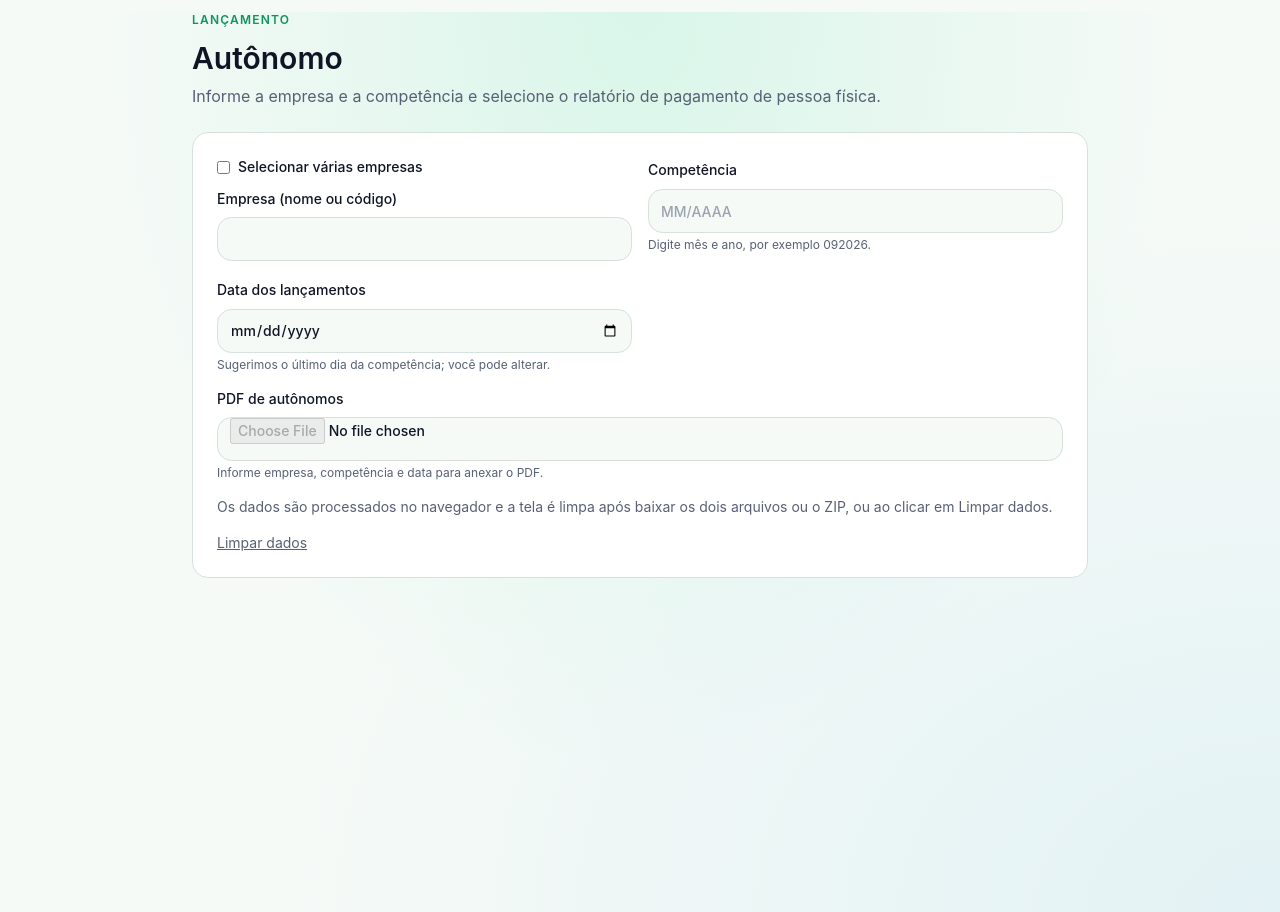
Test: tela de autônomos › solicita empresa e competência e cancela ao limpar
This screenshot has width=1280, height=912.
Later steps or results of the test are not shown.
Expected: the file field labelled "PDF de autônomos" is disabled, 217,417 -> 1063,461
Type "0113" into the field labelled "Empresa (nome ou código)".
click(424, 239); type("0113")  # box 217,217 -> 632,261
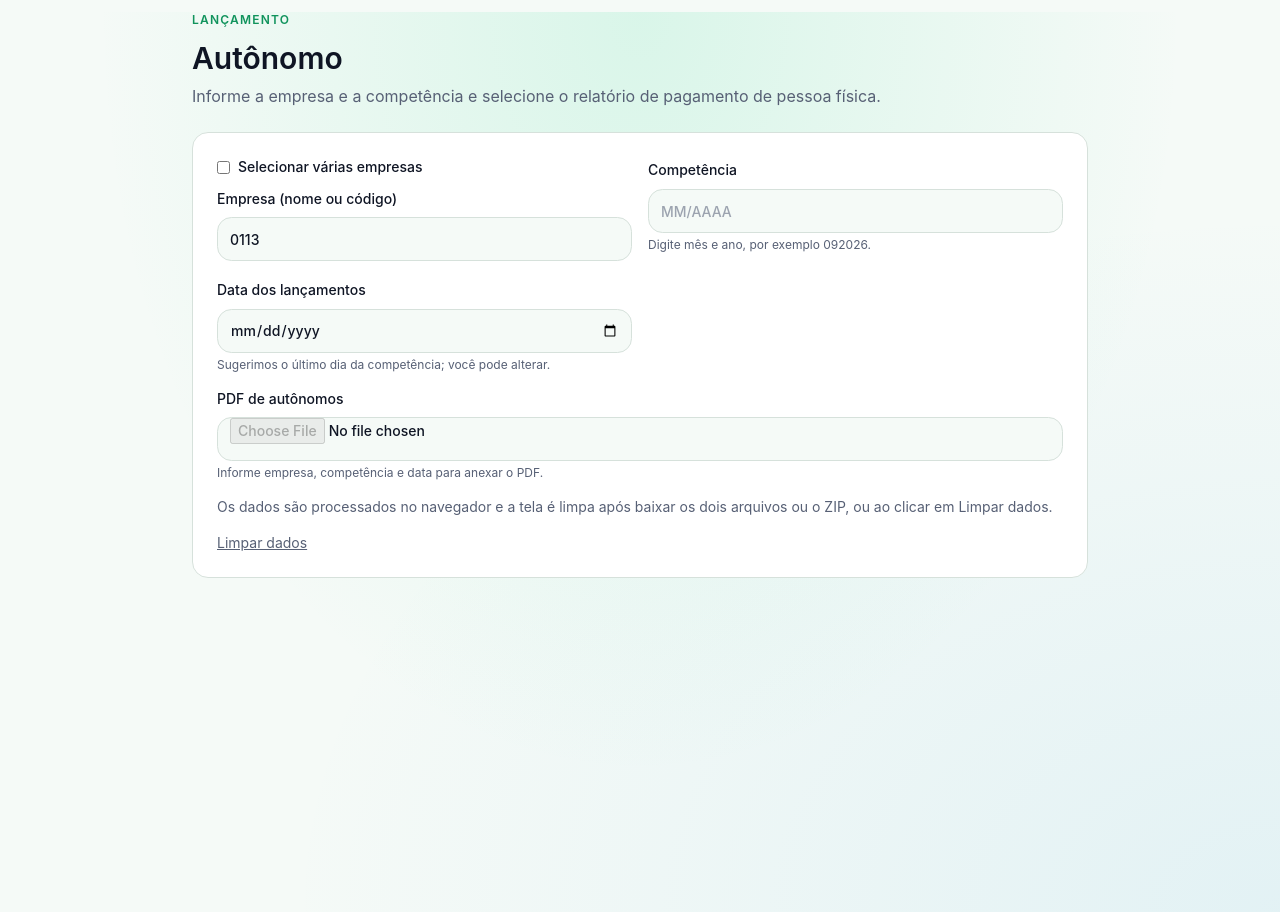
Type "092026" into the field labelled "Competência".
click(856, 211); type("092026")  # box 648,189 -> 1063,233
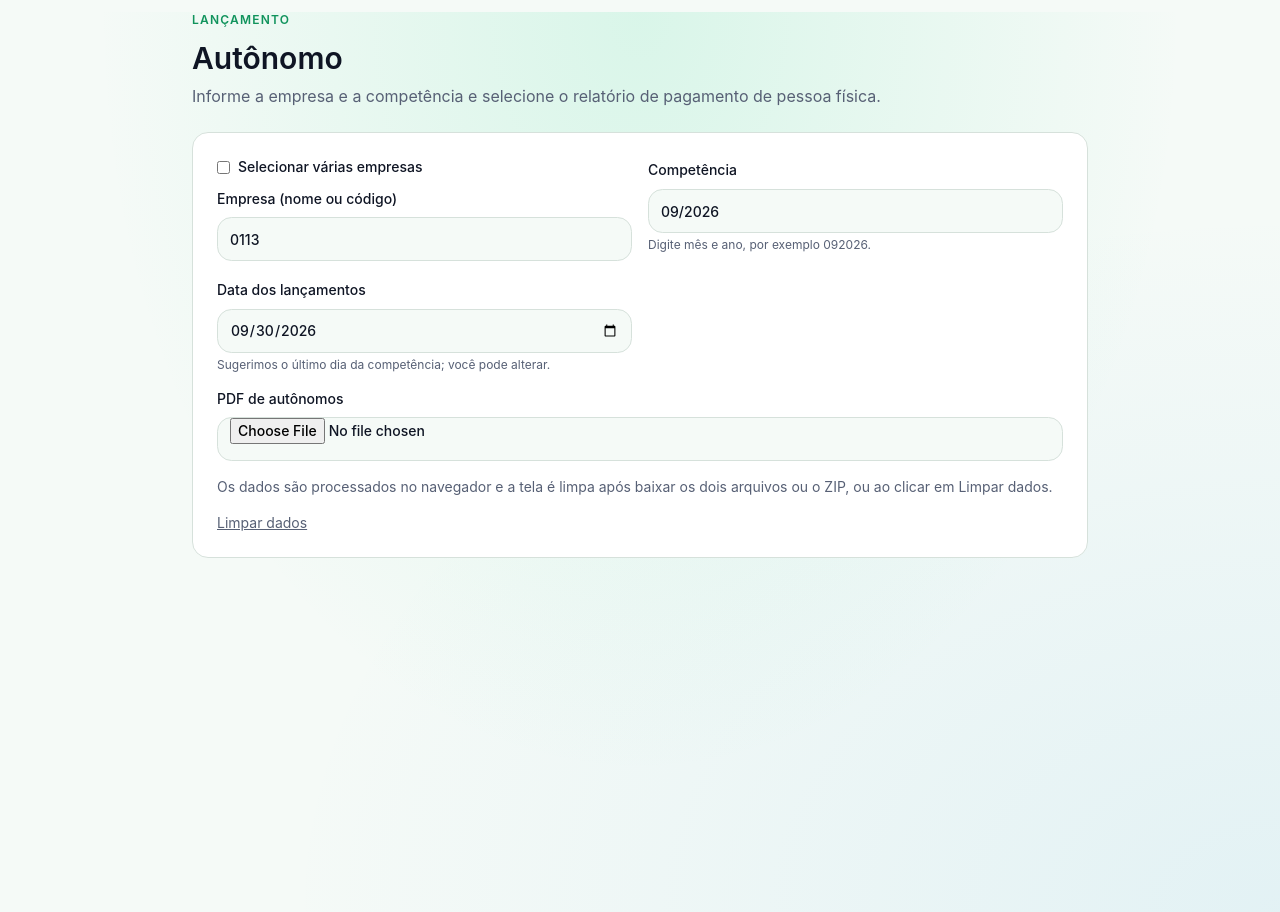
Expected: the date field labelled "Data dos lançamentos" holds "2026-09-30", 217,309 -> 632,353
